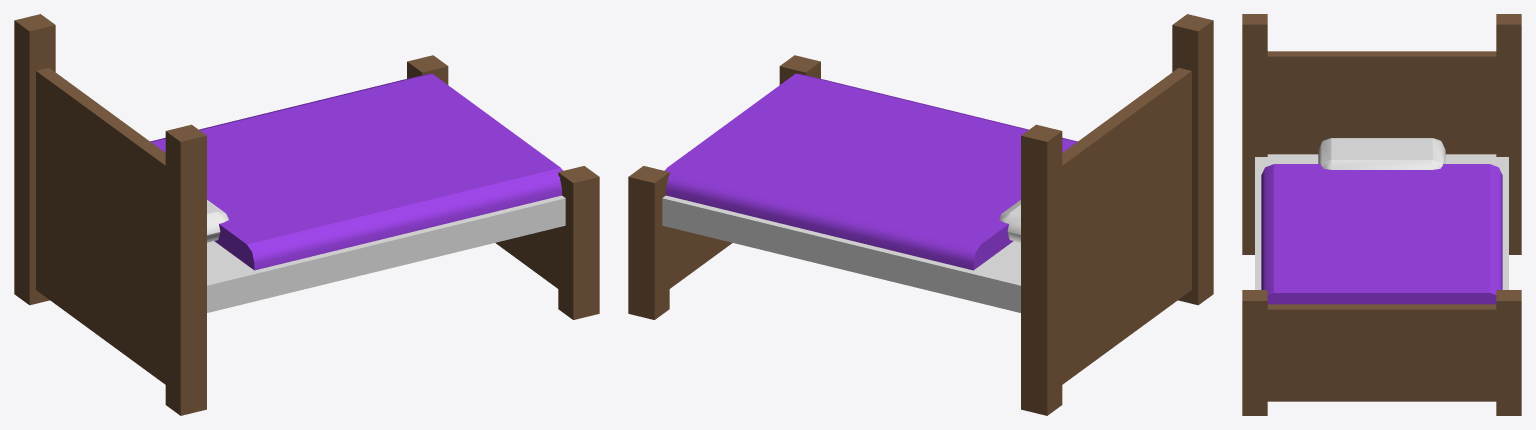
Rendered from bed.fbx.
The picture shows the model from 3 angles, left to right: view 1: azimuth 30°, elevation 25°; view 2: azimuth 150°, elevation 25°; view 3: azimuth 270°, elevation 25°; orthographic projection. The views are drawn at different scales.
Visible parts, largest first — view 1: Matress, Barrier.001, Barrier; view 2: Matress, Barrier.001, Barrier; view 3: Matress, Barrier.001, Barrier.
Boxes of the visible parts, x1,y1,x2,y2 form: Matress: (150,73,565,312); Barrier.001: (14,14,206,415); Barrier: (407,55,599,319); Matress: (662,73,1077,312); Barrier.001: (1021,14,1213,415); Barrier: (628,55,820,319); Matress: (1255,138,1508,304); Barrier.001: (1242,14,1521,254); Barrier: (1242,290,1521,415).
Size of the model in its own units: 160 by 100 by 110.
